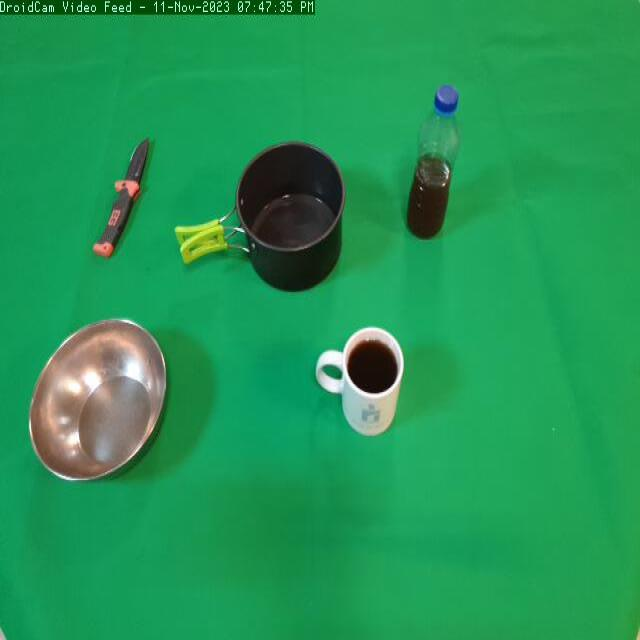bowl: (20, 312, 174, 488)
fullbottle: (403, 77, 468, 250)
fullcup: (311, 319, 410, 453)
knife: (91, 128, 161, 271)
pot: (174, 138, 354, 302)
